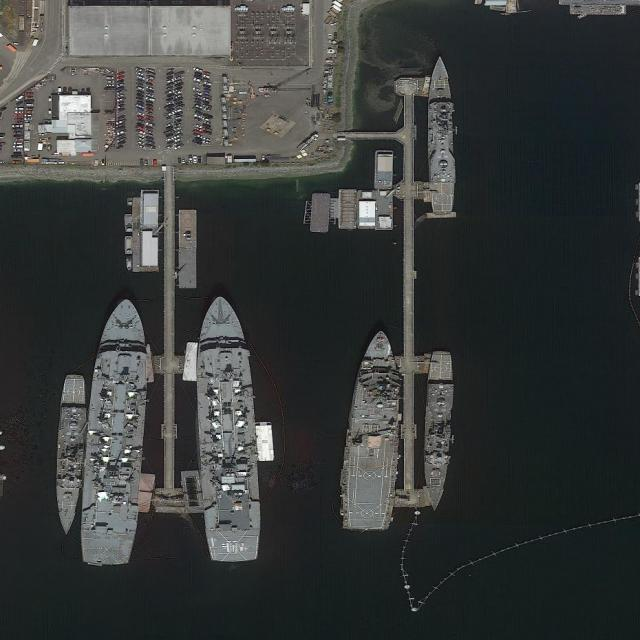Auxiliary Ships: (76, 297, 156, 570), (191, 300, 264, 570)
Dock: (391, 76, 429, 507), (156, 182, 183, 513)
Frigate: (52, 374, 89, 535), (421, 350, 454, 511), (427, 56, 456, 214)
Landing: (342, 329, 404, 533)
Other Ship: (125, 214, 134, 233), (125, 236, 134, 255), (127, 259, 132, 271), (127, 198, 133, 207)
